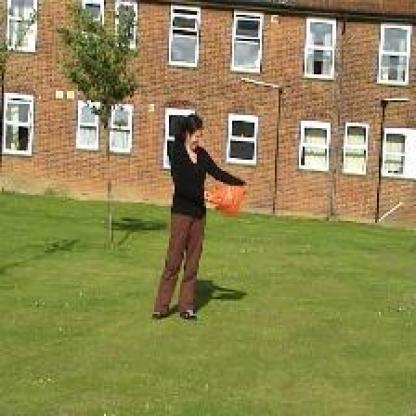other: (202, 181, 246, 215)
